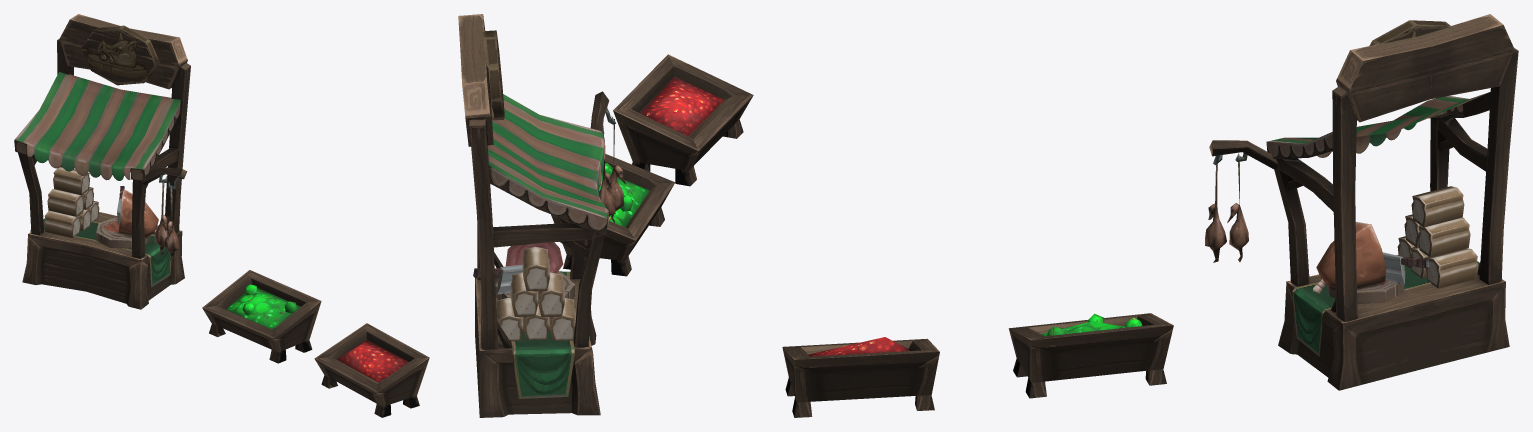
File: object_market_items01.fbx
3 views of the same model, side by side, from view 1: azimuth 30°, elevation 25°; view 2: azimuth 150°, elevation 25°; view 3: azimuth 270°, elevation 25° (orthographic). The views are drawn at different scales.
Parts seen in each view (by area): view 1: object_market_items01-0; view 2: object_market_items01-0; view 3: object_market_items01-0.
Part boxes in pixels (box(x1,y1,x2,y2)): object_market_items01-0: box(14, 14, 429, 417); object_market_items01-0: box(458, 14, 753, 417); object_market_items01-0: box(782, 14, 1518, 417).
Size of the model in its own units: 3.9 by 4.83 by 9.39.
